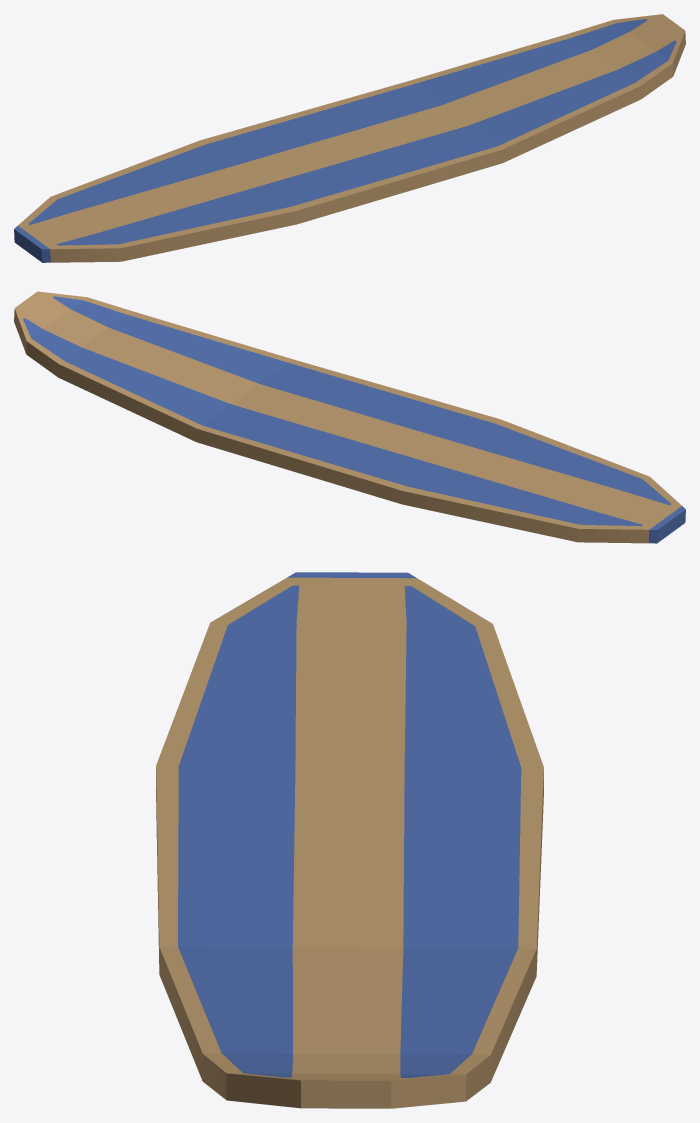
Rendered from Planche_Surf_Bleue.fbx.
3 renders of one model, top to bottom at view 1: azimuth 30°, elevation 25°; view 2: azimuth 150°, elevation 25°; view 3: azimuth 270°, elevation 25°, orthographic. The views are drawn at different scales.
Visible parts, largest first — view 1: Planche_Surf_Bleue; view 2: Planche_Surf_Bleue; view 3: Planche_Surf_Bleue.
Boxes of the visible parts, box(x1,y1,x2,y2) form: Planche_Surf_Bleue: box(14, 14, 685, 262); Planche_Surf_Bleue: box(14, 291, 685, 543); Planche_Surf_Bleue: box(156, 572, 543, 1108).
Size of the model in its own units: 100 by 11.05 by 26.13.
1 material, 1 textured.
